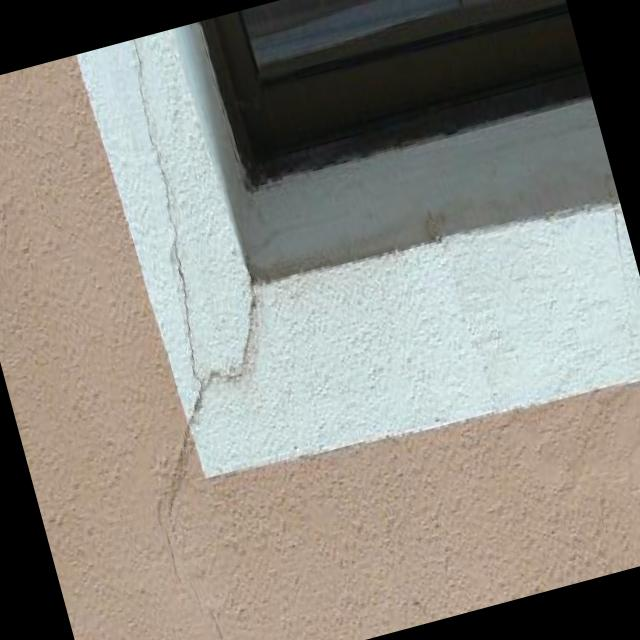crack: (132, 41, 257, 542), (209, 607, 225, 640)
